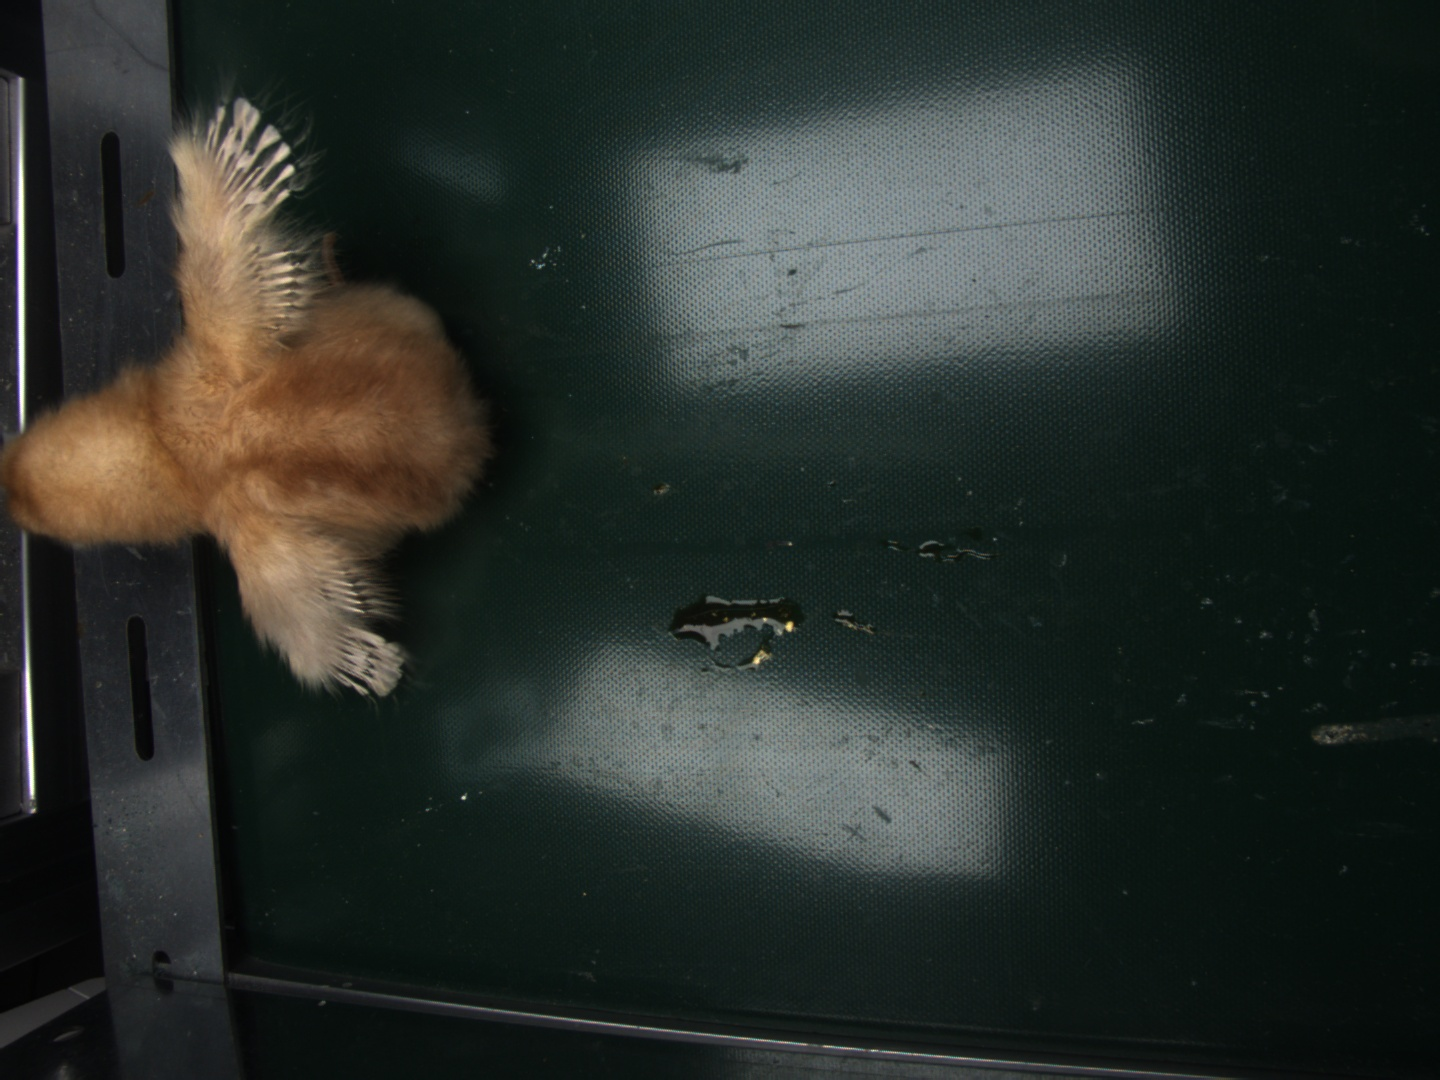female: (200, 98, 299, 218), (324, 621, 374, 691)
